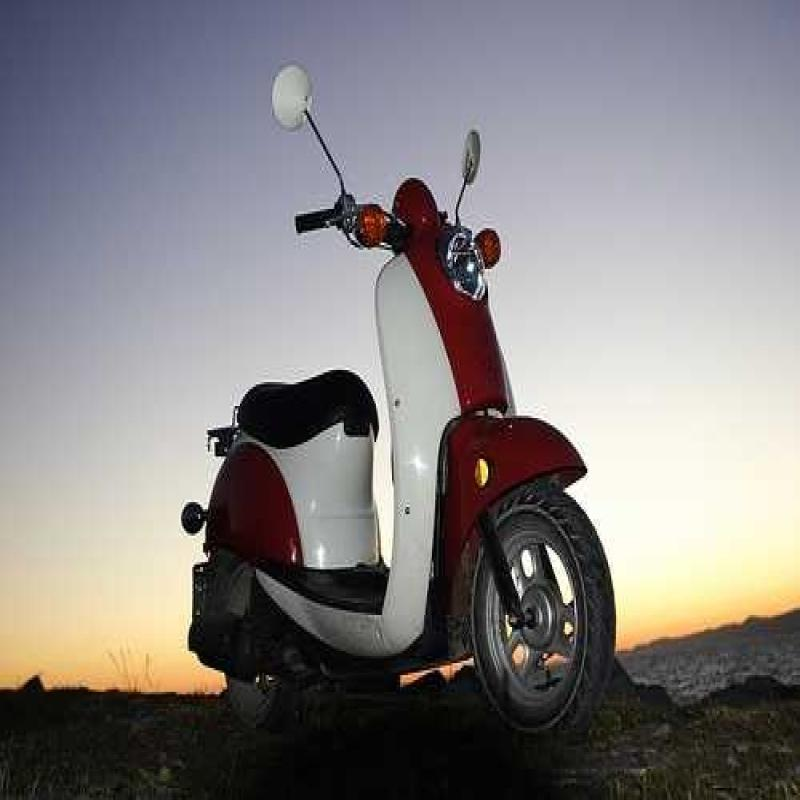bike: (150, 50, 624, 740)
